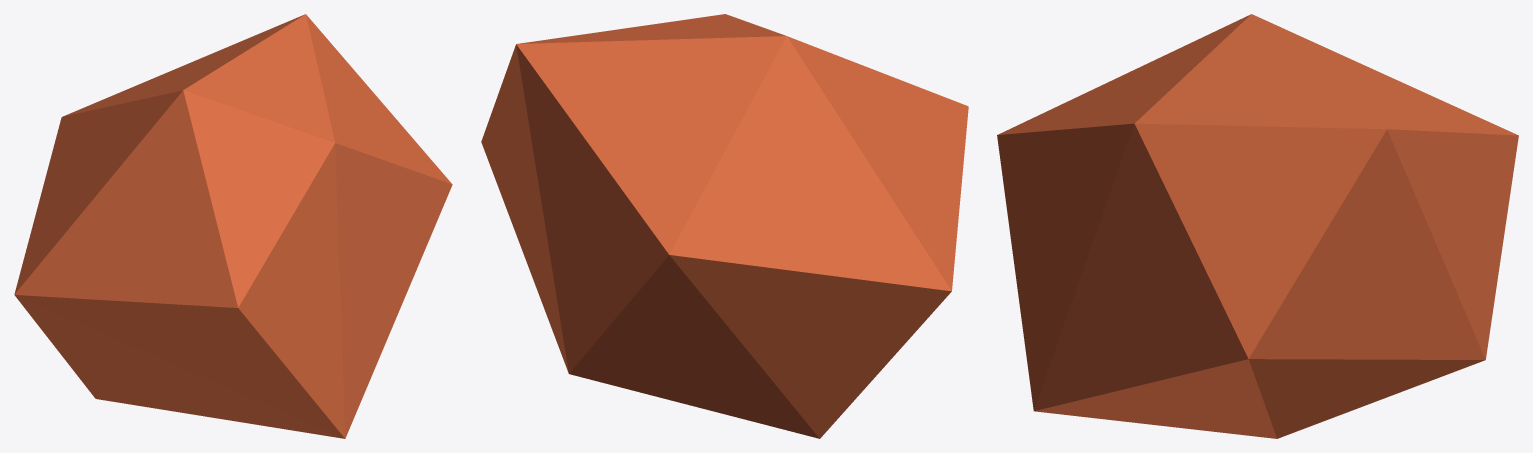
The model's file is Gas_Giant_05_Ring_01_Asteroid.fbx.
The picture shows the model from 3 angles, left to right: view 1: azimuth 30°, elevation 25°; view 2: azimuth 150°, elevation 25°; view 3: azimuth 270°, elevation 25°; orthographic projection. The views are drawn at different scales.
Visible parts, largest first — view 1: Gas_Giant_05_Ring_01_Asteroid; view 2: Gas_Giant_05_Ring_01_Asteroid; view 3: Gas_Giant_05_Ring_01_Asteroid.
Boxes of the visible parts, x1,y1,x2,y2 form: Gas_Giant_05_Ring_01_Asteroid: (14,14,452,438); Gas_Giant_05_Ring_01_Asteroid: (481,14,968,438); Gas_Giant_05_Ring_01_Asteroid: (997,14,1518,438).
Bounding box in the file's own units: 849 × 604 × 759.
